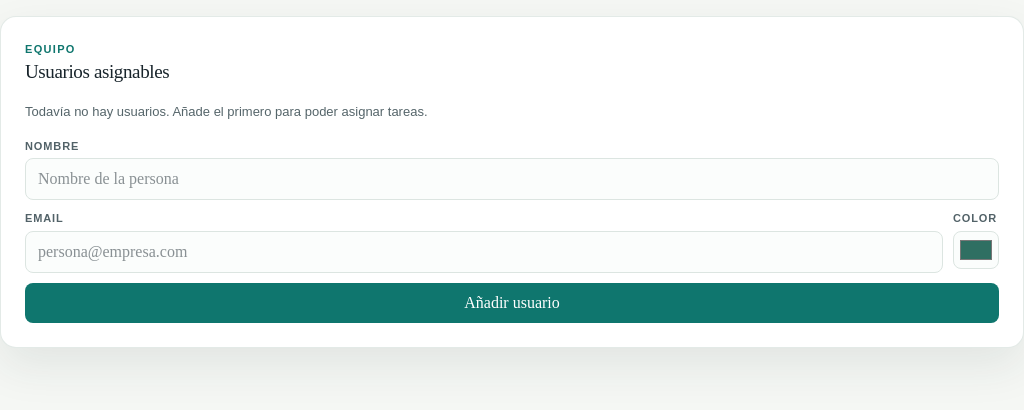
Test: UserManager › valida que nombre y email sean obligatorios antes de enviar
Click the button "Añadir usuario". click: (512, 302)
box: [25,282,999,322]
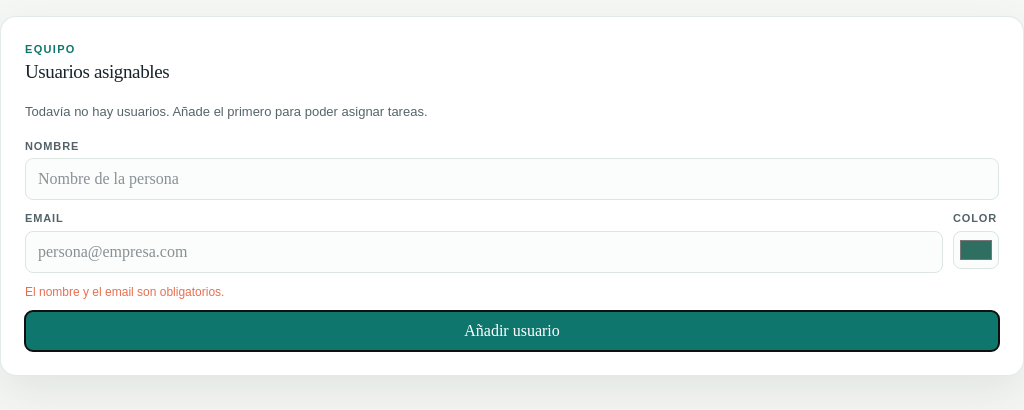
Expected: the text "El nombre y el email son obligatorios." is shown, [25,284,224,298]
